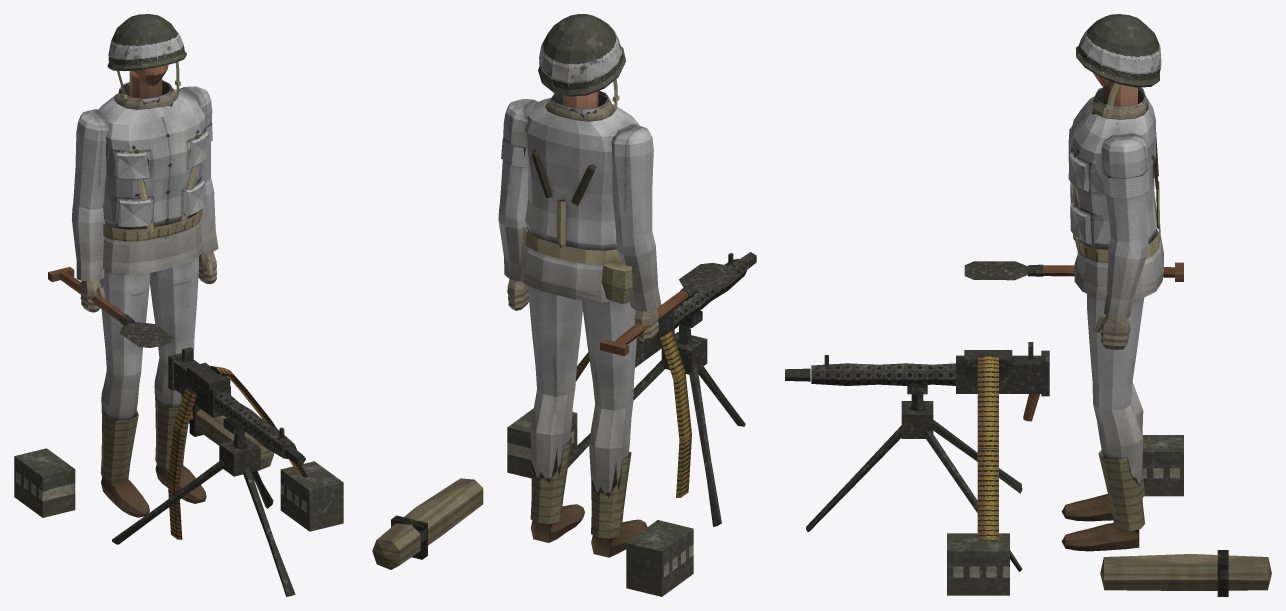
Rendered from mgteam.glb.
3 views of the same model, side by side, from view 1: azimuth 30°, elevation 25°; view 2: azimuth 150°, elevation 25°; view 3: azimuth 270°, elevation 25° (orthographic). The views are drawn at different scales.
Parts seen in each view (by area): view 1: mgteam_LOD0; view 2: mgteam_LOD0; view 3: mgteam_LOD0.
Boxes of the visible parts, x1,y1,x2,y2 form: mgteam_LOD0: (14, 14, 343, 596); mgteam_LOD0: (372, 14, 756, 596); mgteam_LOD0: (785, 14, 1271, 596).
Size of what is drawn, in the model's own units: 0.873 by 1.77 by 1.51.
Materials: 1 (1 with a texture image).
